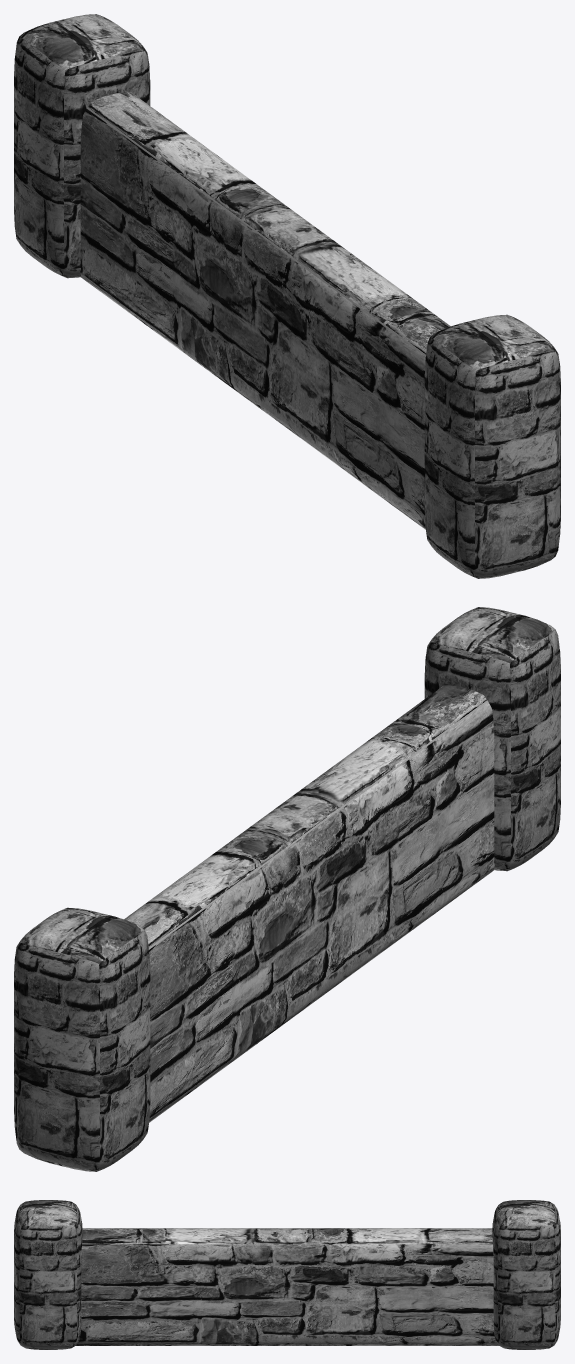
Rendered from mur01.fbx.
3 renders of one model, top to bottom at view 1: azimuth 30°, elevation 25°; view 2: azimuth 150°, elevation 25°; view 3: azimuth 270°, elevation 25°, orthographic. The views are drawn at different scales.
Visible parts, largest first — view 1: mur02, pil03, pil01; view 2: mur02, pil01, pil03; view 3: mur02, pil01, pil03.
Boxes of the visible parts, box(x1,y1,x2,y2) form: mur02: box(80, 92, 450, 529); pil03: box(424, 314, 560, 578); pil01: box(14, 14, 150, 278); mur02: box(124, 685, 494, 1122); pil01: box(14, 907, 150, 1171); pil03: box(424, 607, 560, 871); mur02: box(76, 1228, 498, 1345); pil01: box(492, 1200, 560, 1349); pil03: box(14, 1200, 82, 1349).
Size of the model in its own units: 38.93 by 83.84 by 310.
